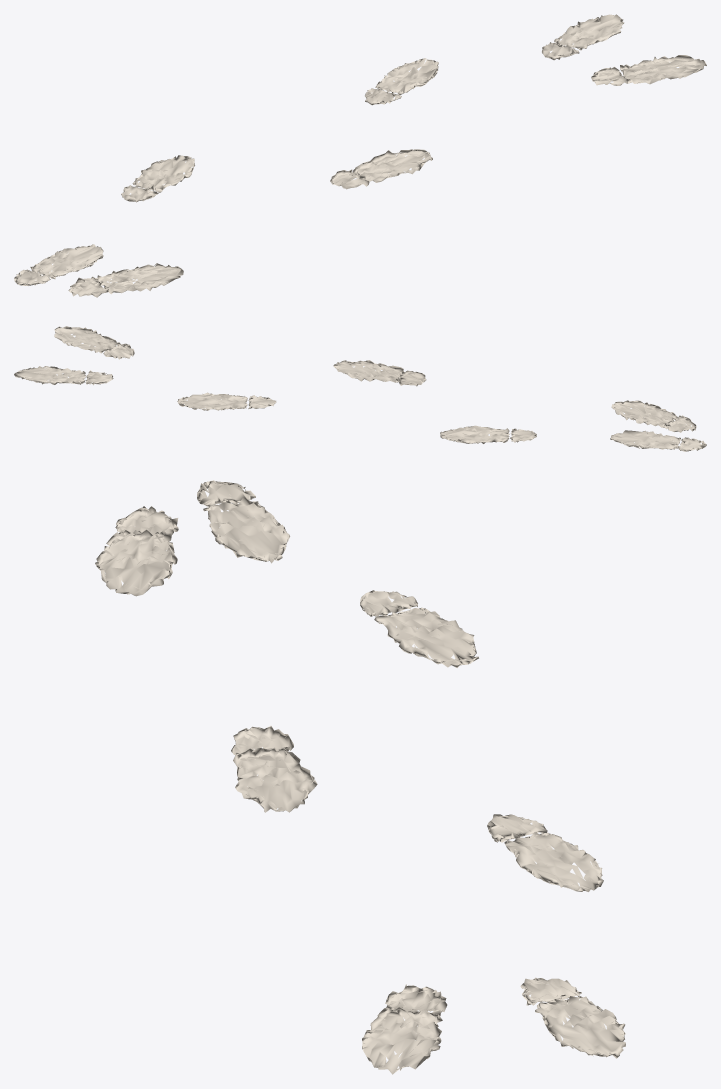
File: foot_steps.glb
3 renders of one model, top to bottom at view 1: azimuth 30°, elevation 25°; view 2: azimuth 150°, elevation 25°; view 3: azimuth 270°, elevation 25°, orthographic. The views are drawn at different scales.
Visible parts, largest first — view 1: Plane.004; view 2: Plane.004; view 3: Plane.004.
Part boxes in pixels (x1,y1,x2,y2): Plane.004: (14, 14, 706, 297); Plane.004: (14, 326, 706, 451); Plane.004: (95, 480, 625, 1074).
Size of the model in its own units: 4.84 by 0.124 by 1.83.
